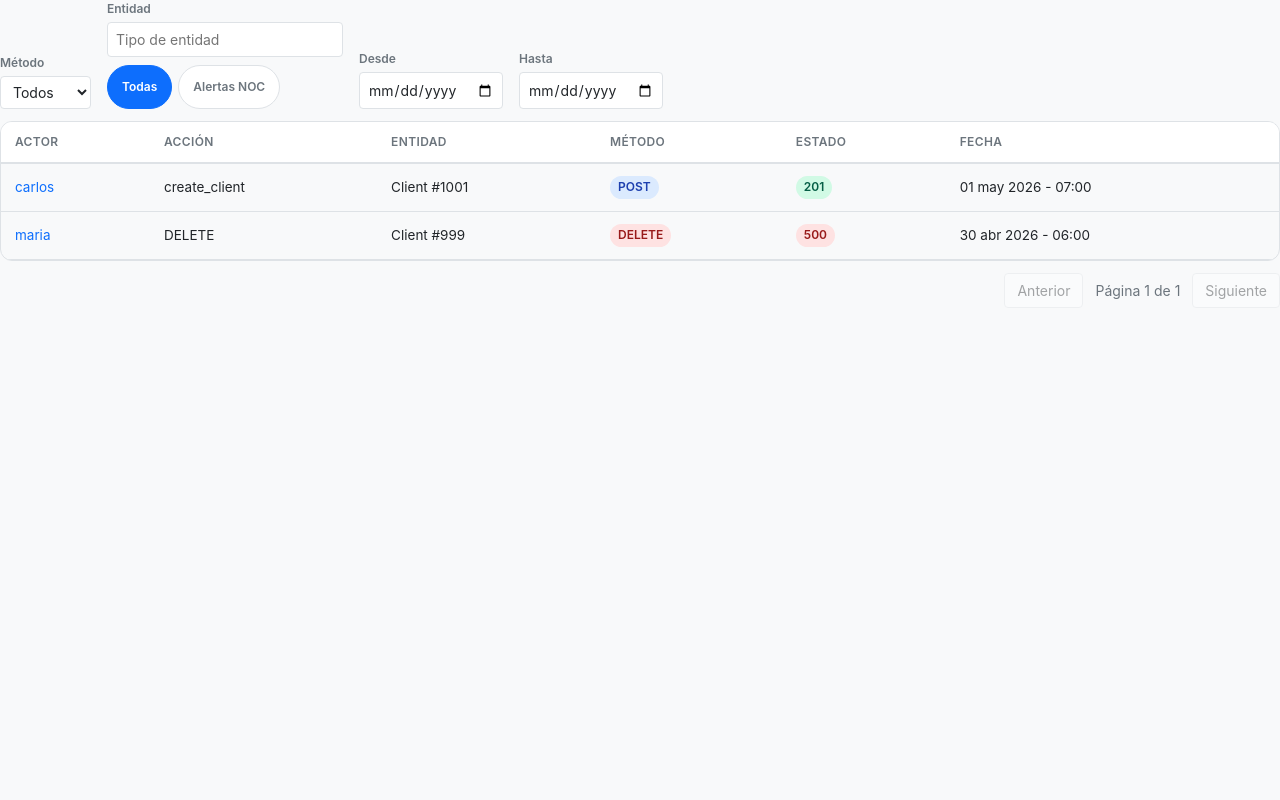
Test: ActivityBody › drawer closes on Escape
The width and height of the screenshot is (1280, 800).
Click the button "carlos" at (35, 187), box [15, 177, 54, 198]
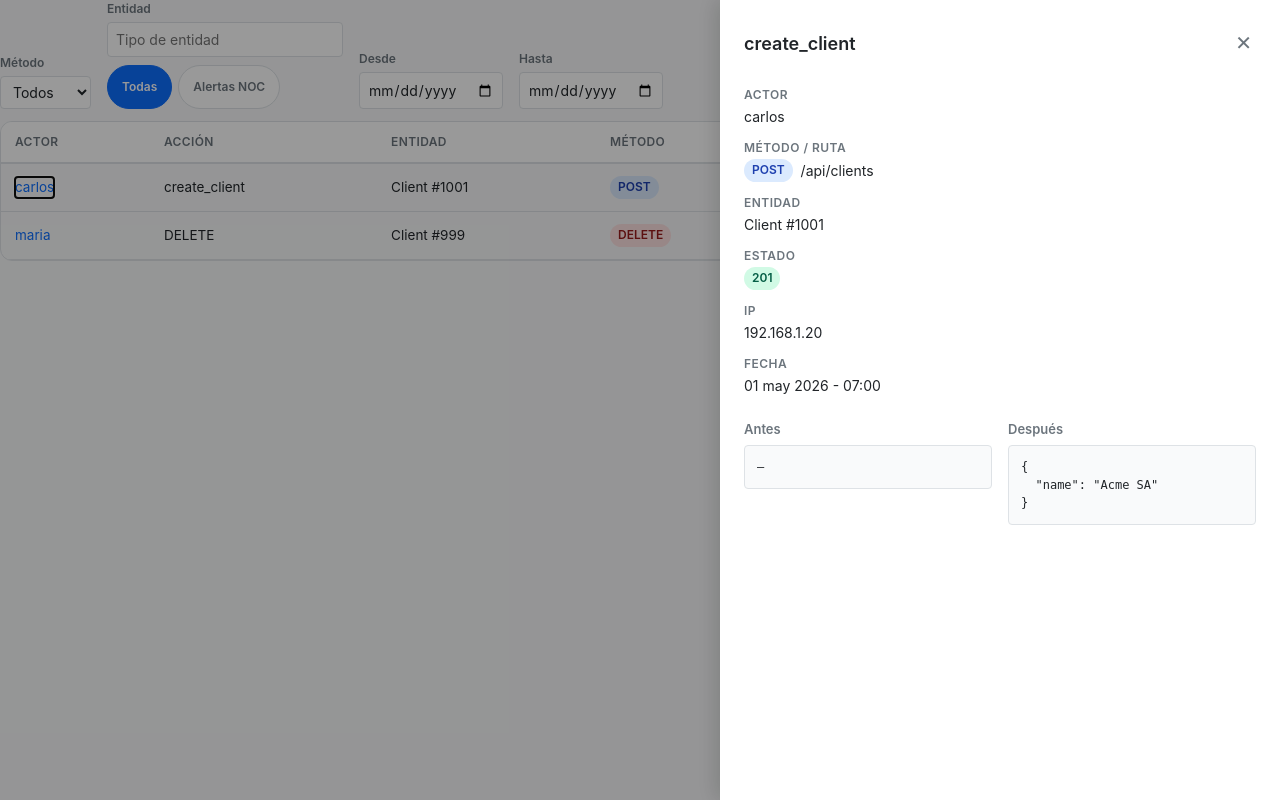
Check: the dialog is shown, box [720, 0, 1279, 799]
Press Escape
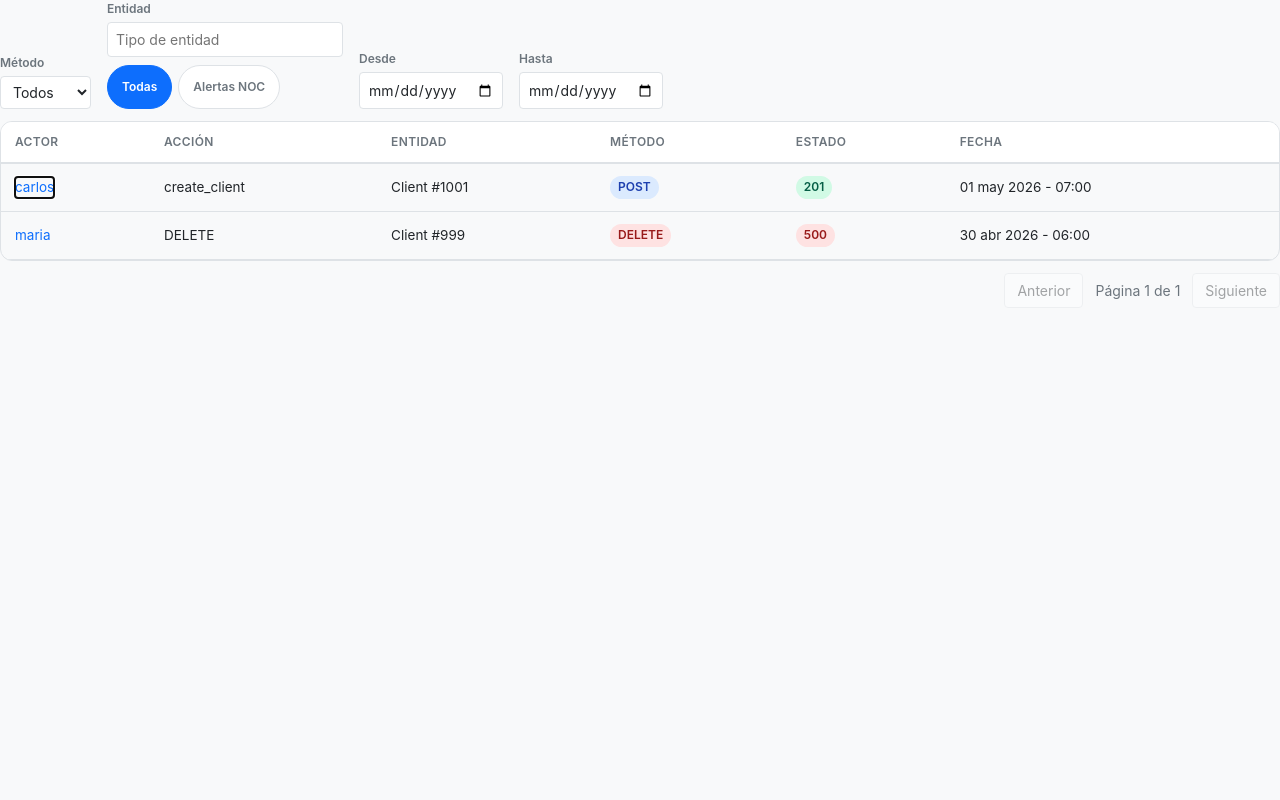
Check: the dialog is gone
